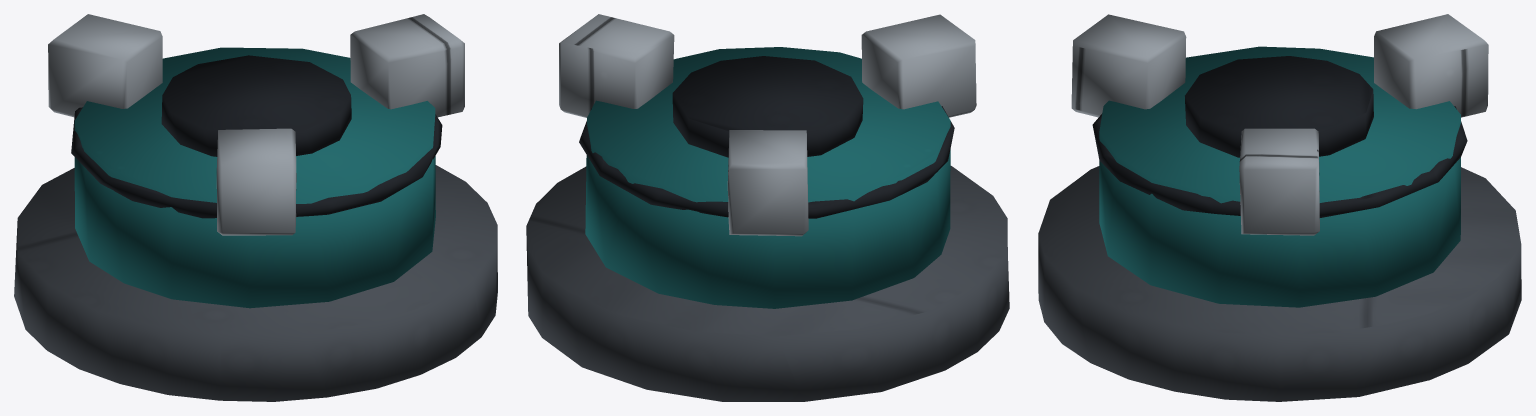
The model's file is ops_robotic_tool_changer_lod2.glb.
3 views of the same model, side by side, from view 1: azimuth 30°, elevation 25°; view 2: azimuth 150°, elevation 25°; view 3: azimuth 270°, elevation 25° (orthographic).
Visible parts, largest first — view 1: LOD2_Mechanical, LOD2_Armor, LOD2_MechanicalDark, LOD2_MOTION_LOCKING_DOG_1_BrushedMetal, LOD2_MOTION_LOCKING_DOG_0_BrushedMetal, LOD2_MOTION_LOCKING_DOG_2_BrushedMetal; view 2: LOD2_Mechanical, LOD2_Armor, LOD2_MechanicalDark, LOD2_MOTION_LOCKING_DOG_2_BrushedMetal, LOD2_MOTION_LOCKING_DOG_0_BrushedMetal, LOD2_MOTION_LOCKING_DOG_1_BrushedMetal; view 3: LOD2_Mechanical, LOD2_Armor, LOD2_MechanicalDark, LOD2_MOTION_LOCKING_DOG_1_BrushedMetal, LOD2_MOTION_LOCKING_DOG_2_BrushedMetal, LOD2_MOTION_LOCKING_DOG_0_BrushedMetal.
Boxes of the visible parts, box(x1,y1,x2,y2) form: LOD2_Mechanical: box(14, 165, 497, 401); LOD2_Armor: box(74, 47, 435, 308); LOD2_MechanicalDark: box(71, 55, 442, 218); LOD2_MOTION_LOCKING_DOG_1_BrushedMetal: box(48, 14, 162, 117); LOD2_MOTION_LOCKING_DOG_0_BrushedMetal: box(350, 14, 464, 117); LOD2_MOTION_LOCKING_DOG_2_BrushedMetal: box(216, 128, 296, 235); LOD2_Mechanical: box(526, 166, 1009, 401); LOD2_Armor: box(585, 47, 950, 308); LOD2_MechanicalDark: box(579, 56, 954, 218); LOD2_MOTION_LOCKING_DOG_2_BrushedMetal: box(861, 14, 976, 117); LOD2_MOTION_LOCKING_DOG_0_BrushedMetal: box(559, 14, 674, 117); LOD2_MOTION_LOCKING_DOG_1_BrushedMetal: box(727, 130, 808, 236); LOD2_Mechanical: box(1038, 166, 1521, 401); LOD2_Armor: box(1099, 46, 1460, 307); LOD2_MechanicalDark: box(1092, 56, 1467, 217); LOD2_MOTION_LOCKING_DOG_1_BrushedMetal: box(1374, 14, 1488, 117); LOD2_MOTION_LOCKING_DOG_2_BrushedMetal: box(1071, 14, 1186, 117); LOD2_MOTION_LOCKING_DOG_0_BrushedMetal: box(1239, 128, 1319, 235).
Size of the model in its own units: 1.28 by 0.6652 by 1.27.
Materials: 4 (4 with a texture image).
